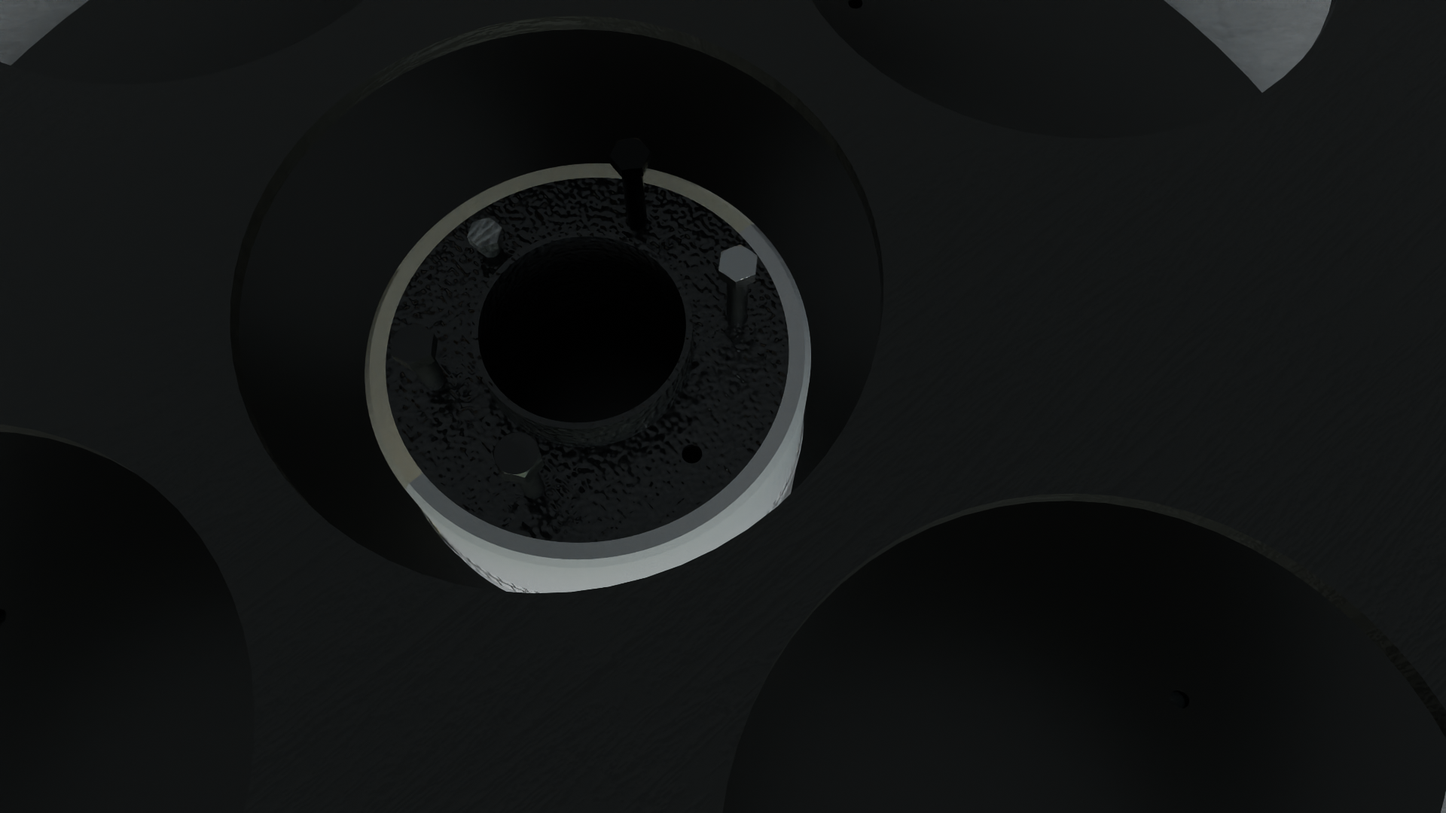bolt: (492, 432, 542, 478), (390, 322, 434, 364), (718, 245, 758, 282), (609, 138, 651, 170), (467, 218, 502, 248)
